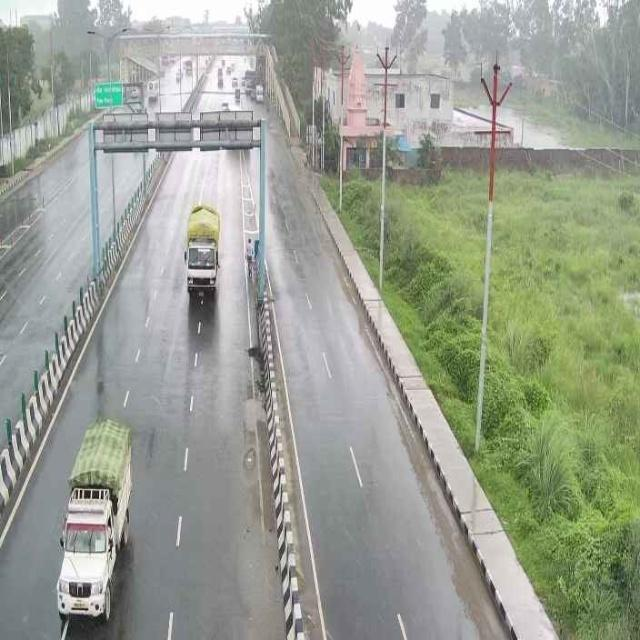car: (54, 412, 142, 634)
